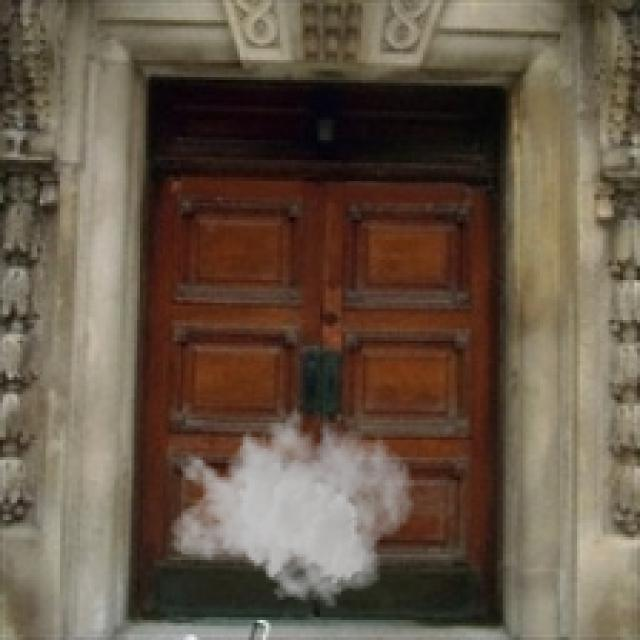smoke: (169, 397, 414, 609)
